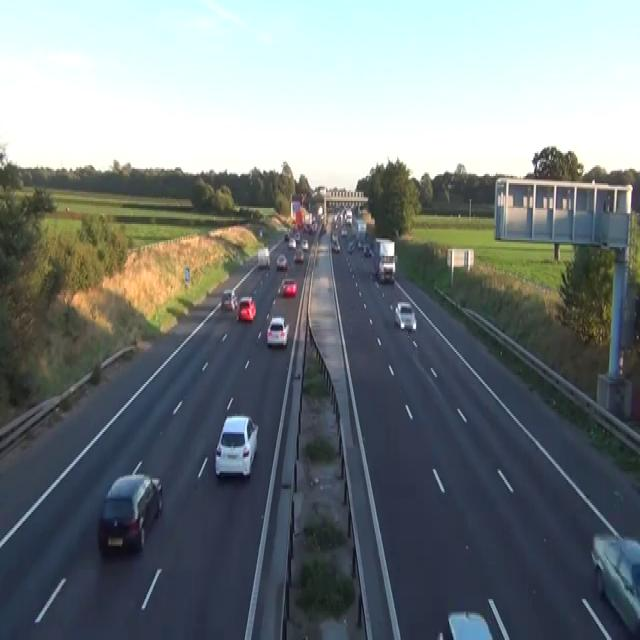Car: (97, 468, 162, 554), (590, 533, 639, 635), (436, 598, 510, 638), (214, 414, 258, 478), (447, 610, 493, 638), (266, 314, 289, 346), (393, 300, 416, 330), (377, 254, 396, 283), (236, 295, 256, 322), (221, 288, 237, 311), (278, 277, 298, 295), (276, 252, 287, 268), (293, 247, 304, 263), (331, 235, 340, 252), (357, 233, 366, 249), (363, 244, 373, 256), (356, 219, 366, 231), (287, 236, 296, 249), (308, 220, 317, 233), (327, 202, 336, 212), (347, 240, 354, 252), (301, 238, 308, 249), (340, 226, 347, 236), (294, 231, 300, 242), (357, 238, 363, 249), (331, 231, 338, 240), (322, 222, 327, 233), (284, 233, 289, 240), (259, 228, 262, 236)
Truck: (373, 236, 396, 282), (257, 246, 270, 268)
